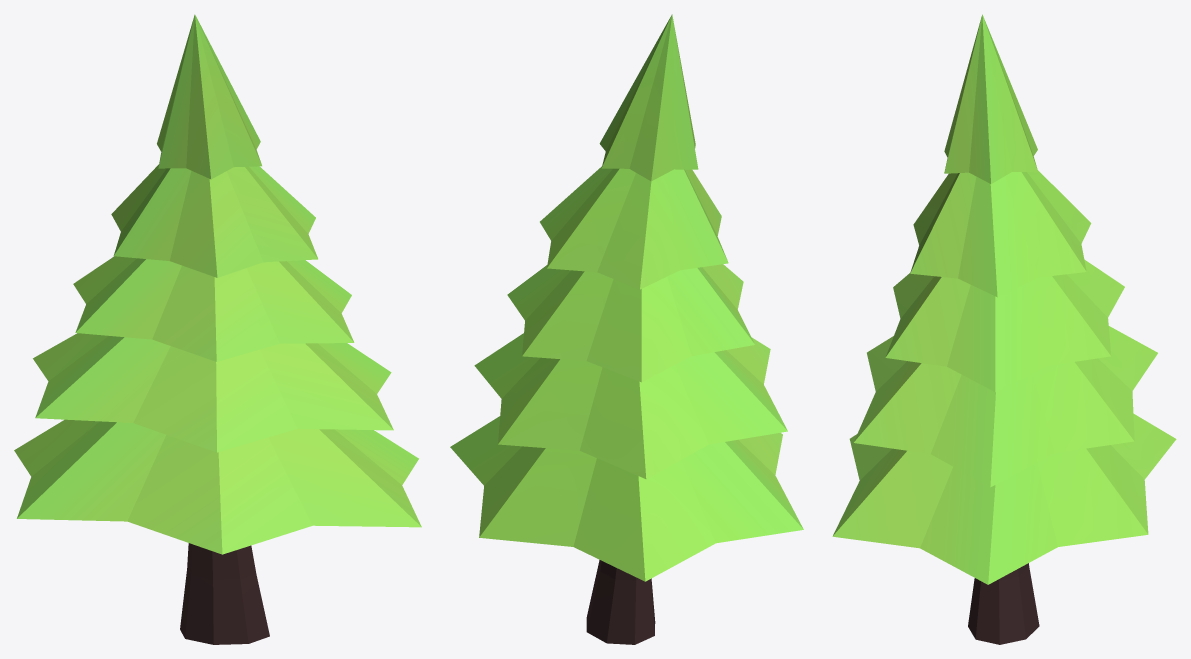
The model's file is tree8.fbx.
3 views of the same model, side by side, from view 1: azimuth 30°, elevation 25°; view 2: azimuth 150°, elevation 25°; view 3: azimuth 270°, elevation 25° (orthographic). The views are drawn at different scales.
Visible parts, largest first — view 1: Cylinder.009; view 2: Cylinder.009; view 3: Cylinder.009.
Boxes of the visible parts, left/top/right/bottom form: Cylinder.009: left=14, top=14, right=421, bottom=644; Cylinder.009: left=450, top=14, right=803, bottom=644; Cylinder.009: left=832, top=14, right=1176, bottom=644.
Bounding box in the file's own units: 513 × 816 × 427.
